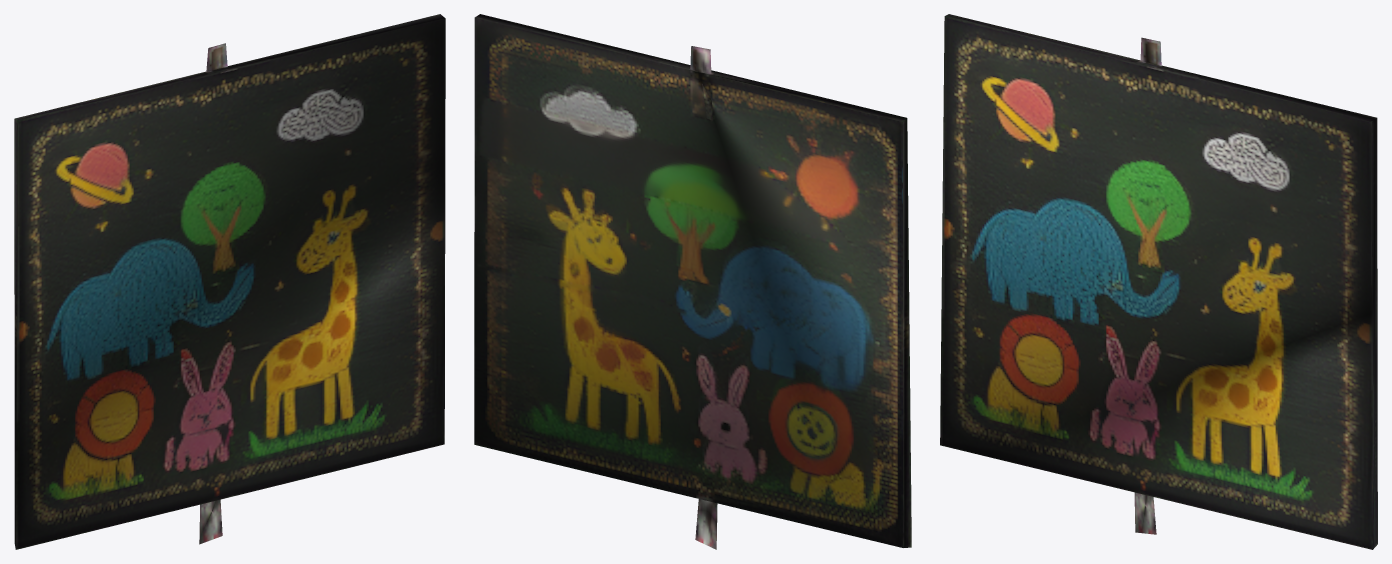
Rendered from all  kids_paintings2.fbx.
3 renders of one model, left to right at view 1: azimuth 30°, elevation 25°; view 2: azimuth 150°, elevation 25°; view 3: azimuth 330°, elevation 25°, orthographic.
Visible parts, largest first — view 1: all kids_paintings2; view 2: all kids_paintings2; view 3: all kids_paintings2.
Part boxes in pixels (<box>): all kids_paintings2: <box>14,14,445,549</box>; all kids_paintings2: <box>474,14,911,549</box>; all kids_paintings2: <box>940,14,1377,549</box>.
Bounding box in the file's own units: 135 × 149 × 3.29.
Materials: 1 (1 with a texture image).
